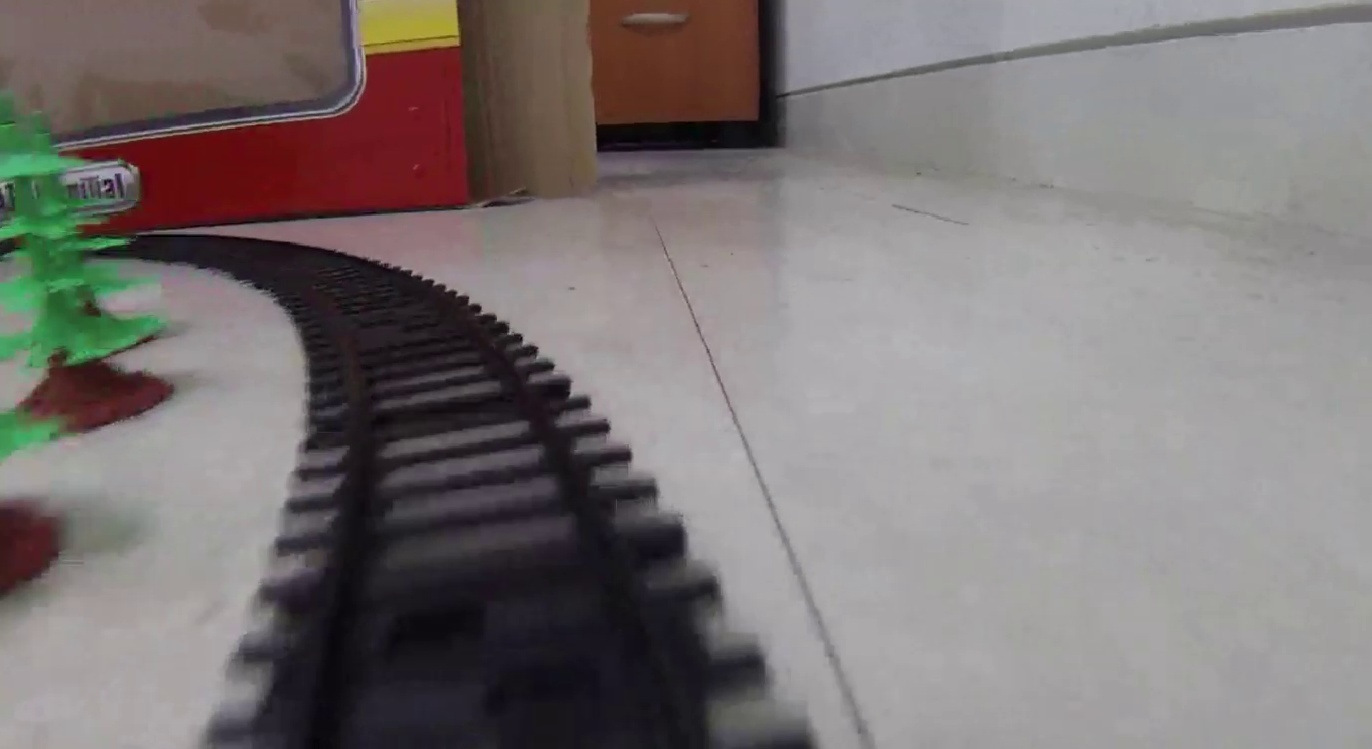tree: (9, 106, 173, 439)
